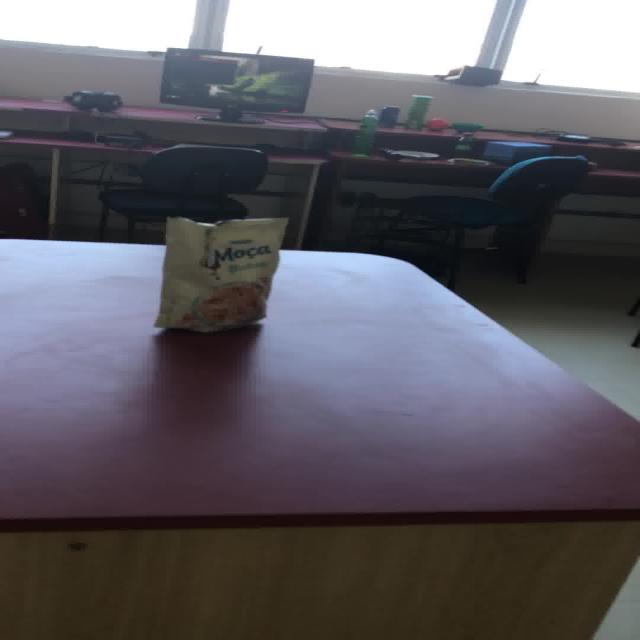corn flakes: (152, 215, 289, 332)
